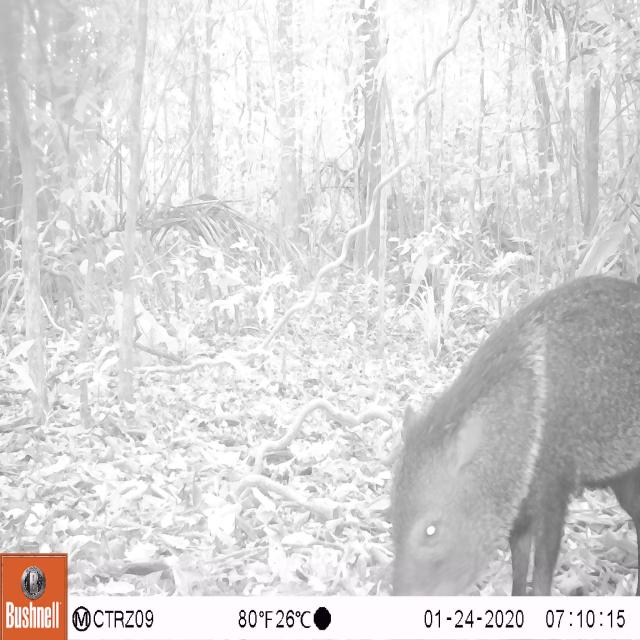Collared Peccary: (383, 265, 640, 592)
